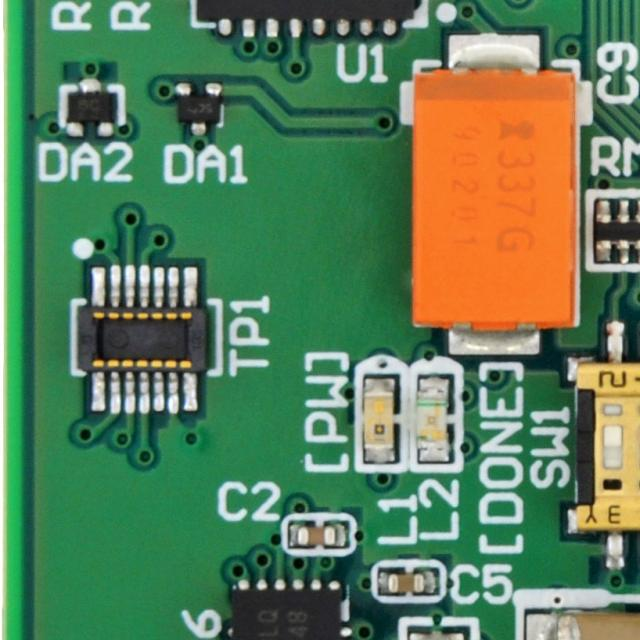IC: (72, 265, 220, 412), (179, 0, 434, 37), (231, 579, 349, 640)
LED: (411, 366, 457, 470), (357, 366, 403, 469)
capacitor: (522, 595, 640, 640), (283, 514, 353, 555), (376, 560, 442, 600)
component text: (446, 115, 545, 260), (252, 604, 313, 640), (590, 365, 640, 391), (580, 500, 624, 525), (246, 0, 367, 5), (75, 95, 101, 112), (637, 503, 640, 521)
diode: (62, 76, 121, 135), (173, 82, 222, 134)
electrolytic capacitor: (413, 29, 578, 354)
emi filter: (402, 618, 475, 640)
resistor: (588, 193, 640, 267)
switch: (569, 320, 640, 567)
